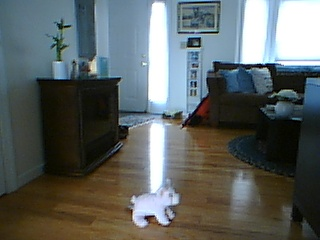piggy: (129, 177, 181, 229)
